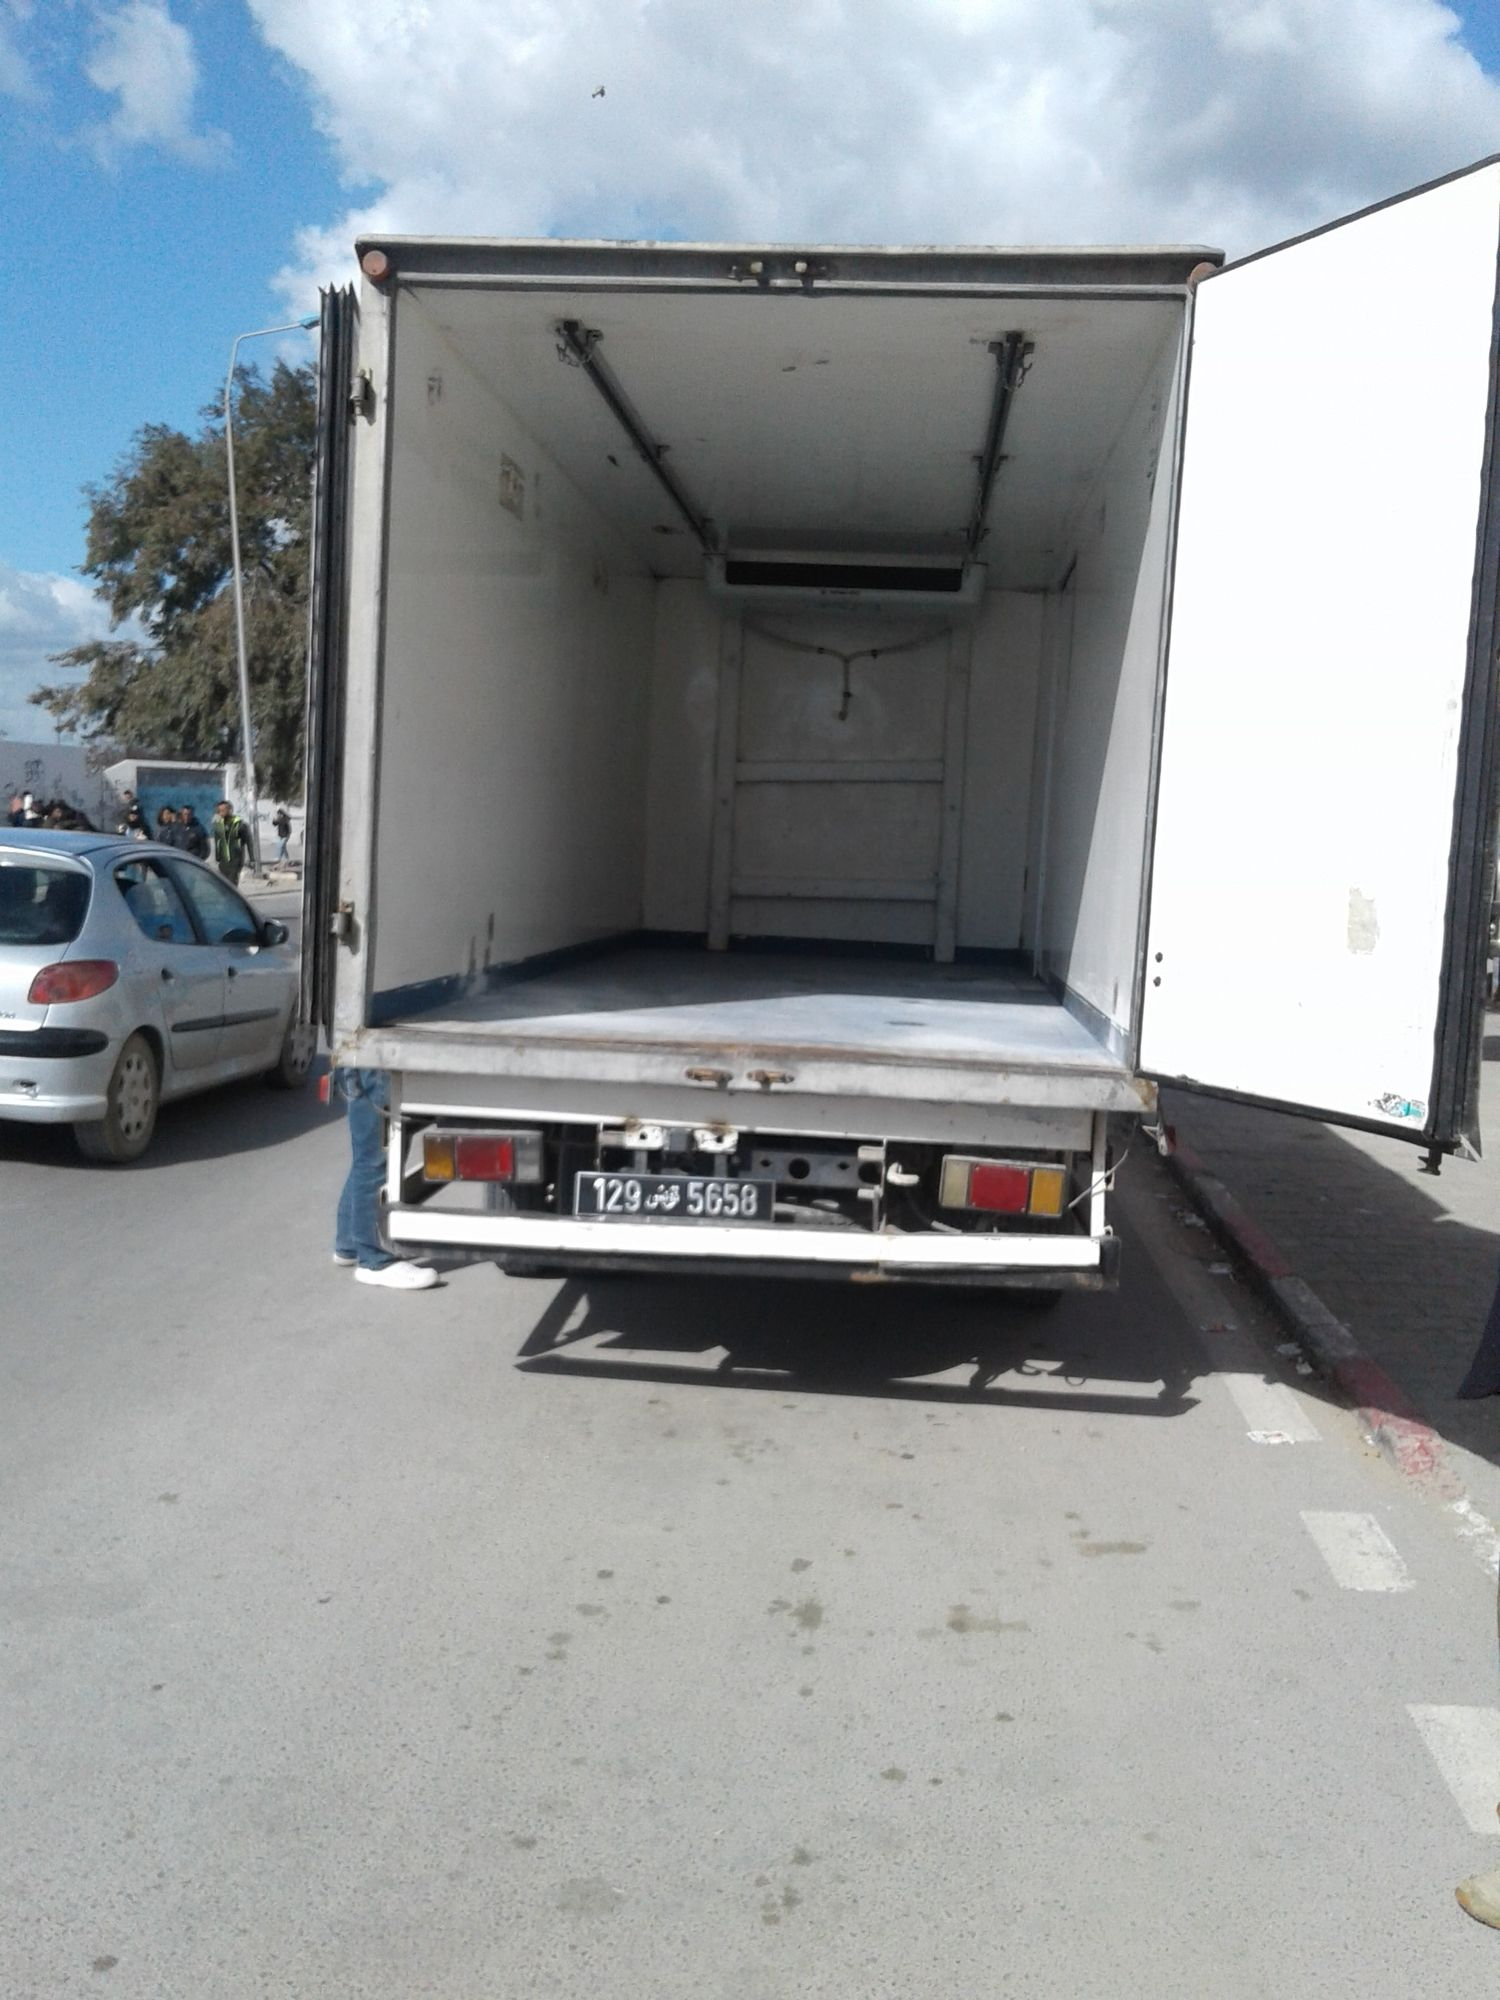LP: (572, 1170, 778, 1224)
